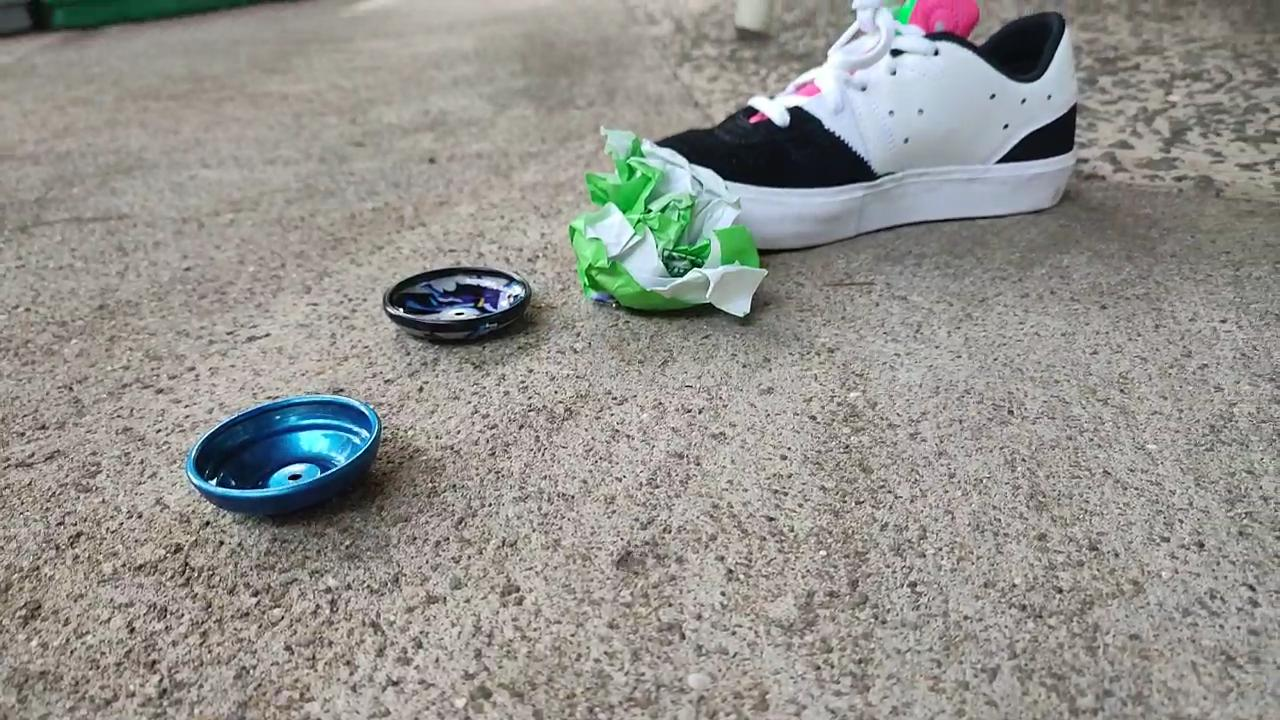Paper: (554, 121, 776, 338)
